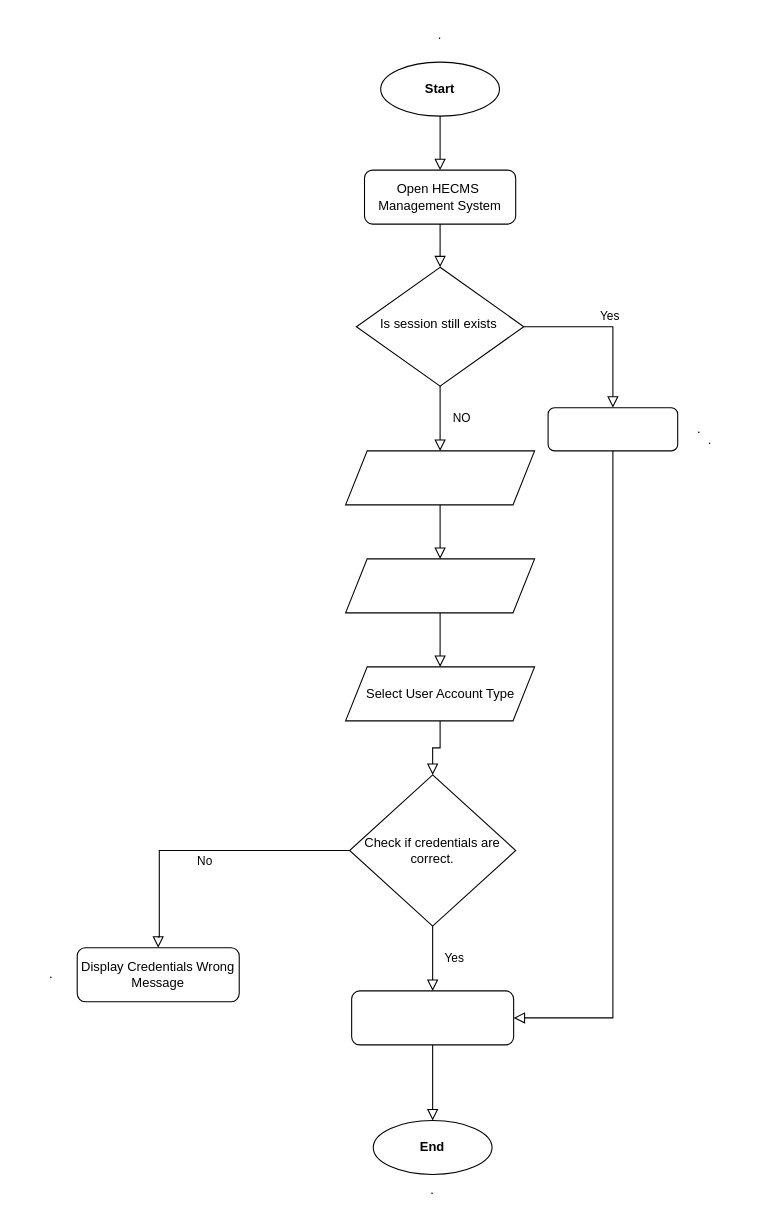
Some shapes in this 760 by 1225 pixel diagram are drawn without their labels. The shapes that lost their labels are listed below. From the top down, each one's box as (x1, y1, x2, y2) in pixels, then its label:
(547, 407, 678, 451): Proceed login with existing session
(345, 450, 535, 505): Enter Username
(345, 558, 535, 613): Enter Password
(351, 990, 514, 1045): Login Successful & Open Dashboard
